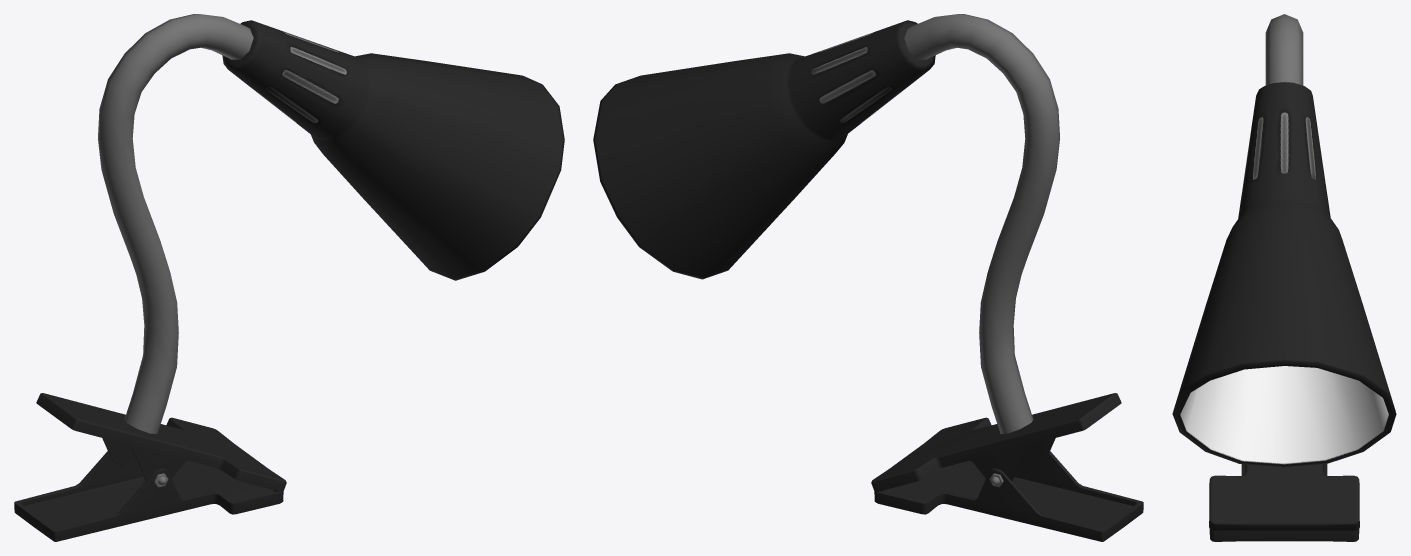
The model's file is lamp8.glb.
The picture shows the model from 3 angles, left to right: view 1: azimuth 30°, elevation 25°; view 2: azimuth 150°, elevation 25°; view 3: azimuth 270°, elevation 25°; orthographic projection. The views are drawn at different scales.
Parts seen in each view (by area): view 1: polySurface6; view 2: polySurface6; view 3: polySurface6.
Boxes of the visible parts, <box> form: polySurface6: <box>14,14,564,541</box>; polySurface6: <box>593,14,1143,541</box>; polySurface6: <box>1172,14,1396,541</box>.
Bounding box in the file's own units: 0.241 × 0.2147 × 0.0895.
1 material, 1 textured.
